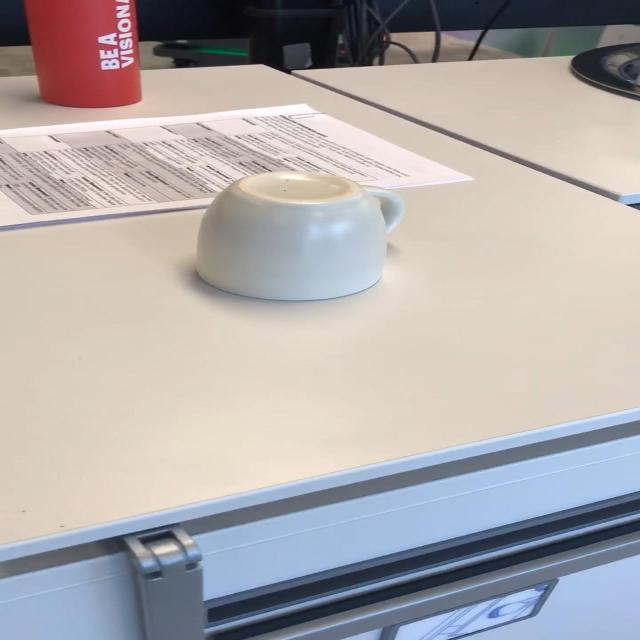cup: (198, 172, 385, 300)
